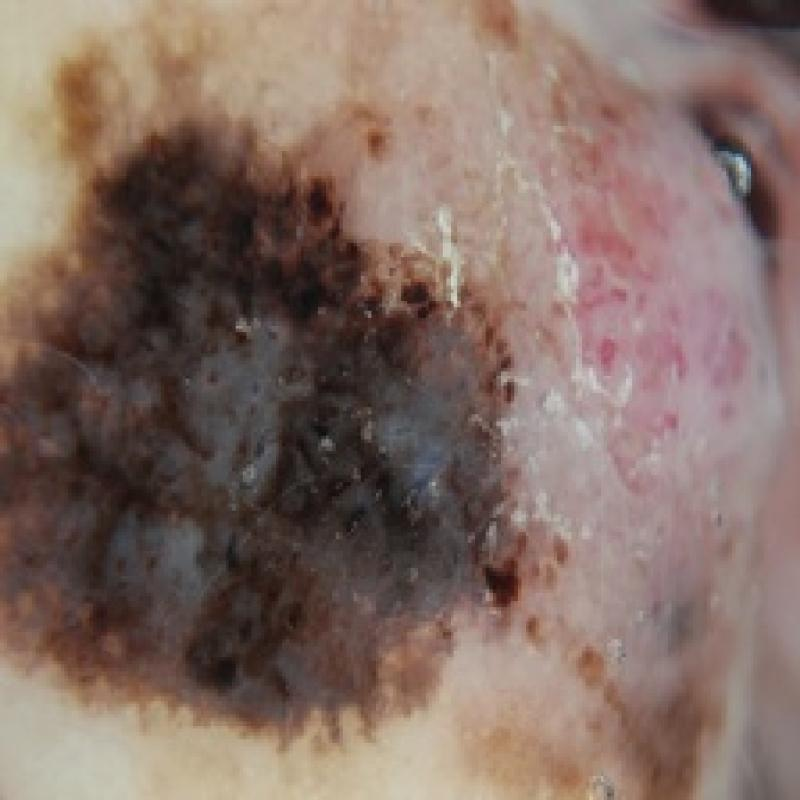malignant: (2, 98, 551, 766)
